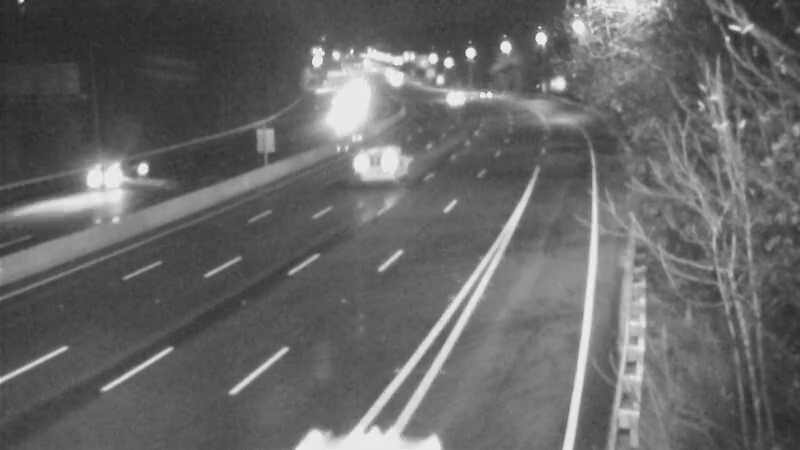vehicle: (335, 125, 415, 205), (76, 131, 156, 211), (456, 64, 506, 114), (427, 73, 477, 123)
